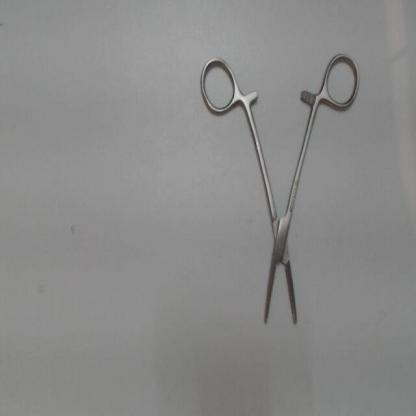Mayo Needle Holder: (196, 44, 366, 334)
